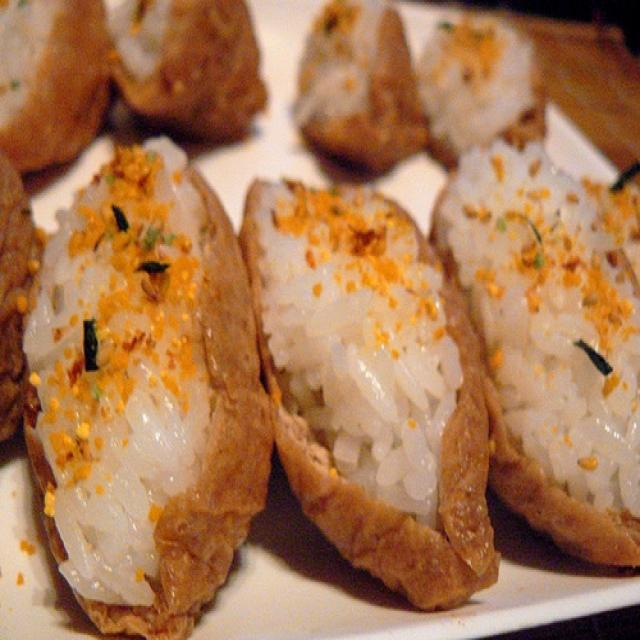寿司卷物: (1, 7, 635, 628)
